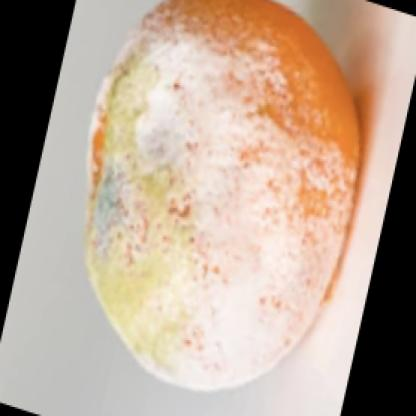rotten: (87, 1, 364, 394)
